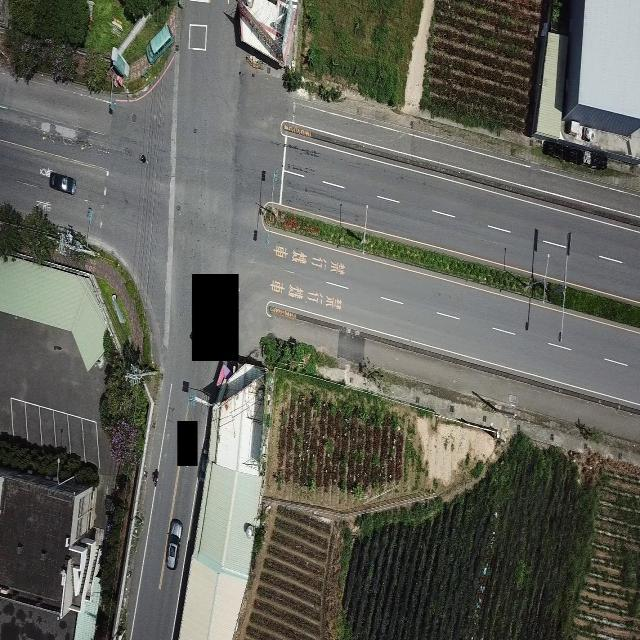bike: (152, 468, 158, 486)
car: (145, 22, 174, 64), (165, 518, 183, 570), (49, 171, 76, 195)
